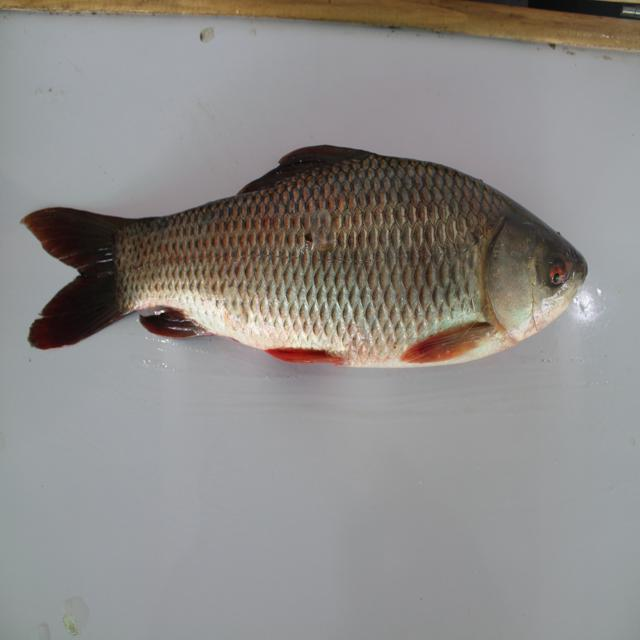Rohu: (30, 136, 578, 390)
